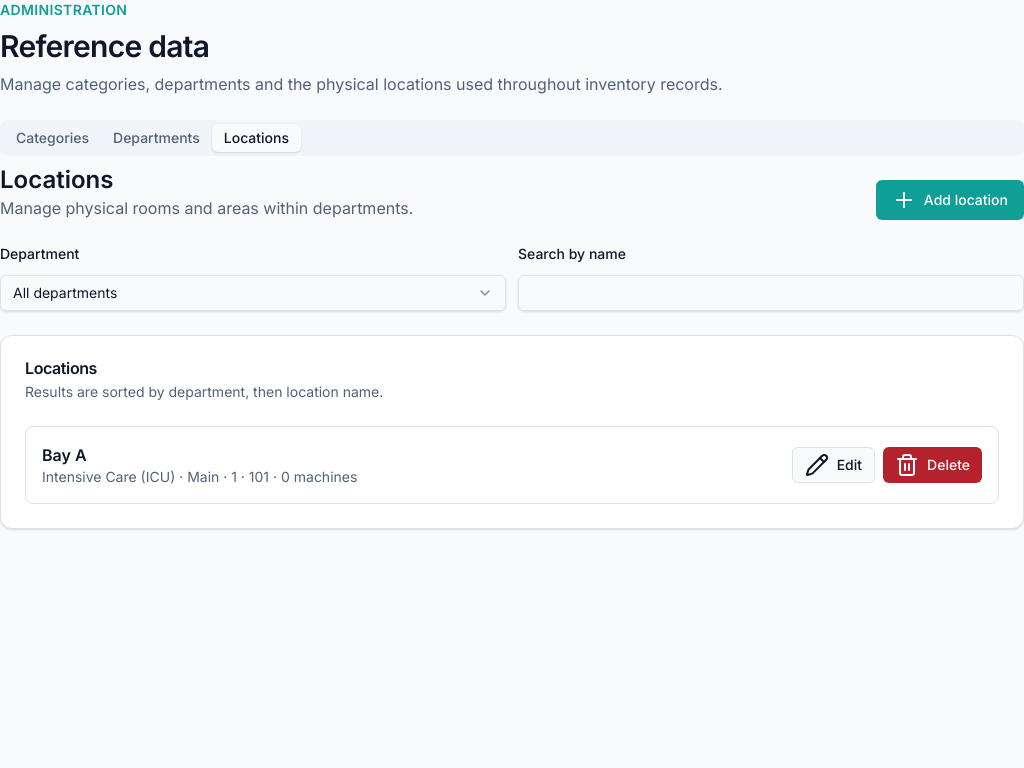
it: ReferenceManagement › filters locations, keeps department immutable on edit and names destructive actions
Expected: the heading "Bay A" is shown, [42,445,87,465]
Click the button with aria-label "Edit Bay A". click: (833, 465)
box: [792,447,875,483]
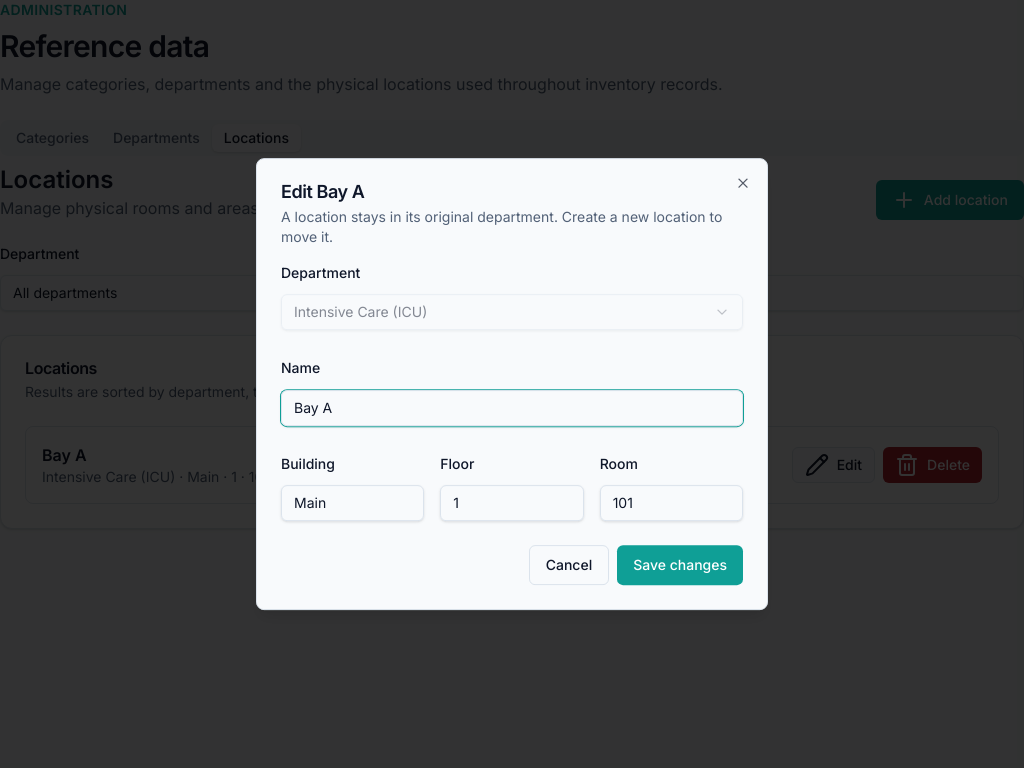
Now the dropdown named "Department" is disabled, box [281,294,743,330]
Click the button "Cancel". click: (569, 565)
box: [529,545,609,585]
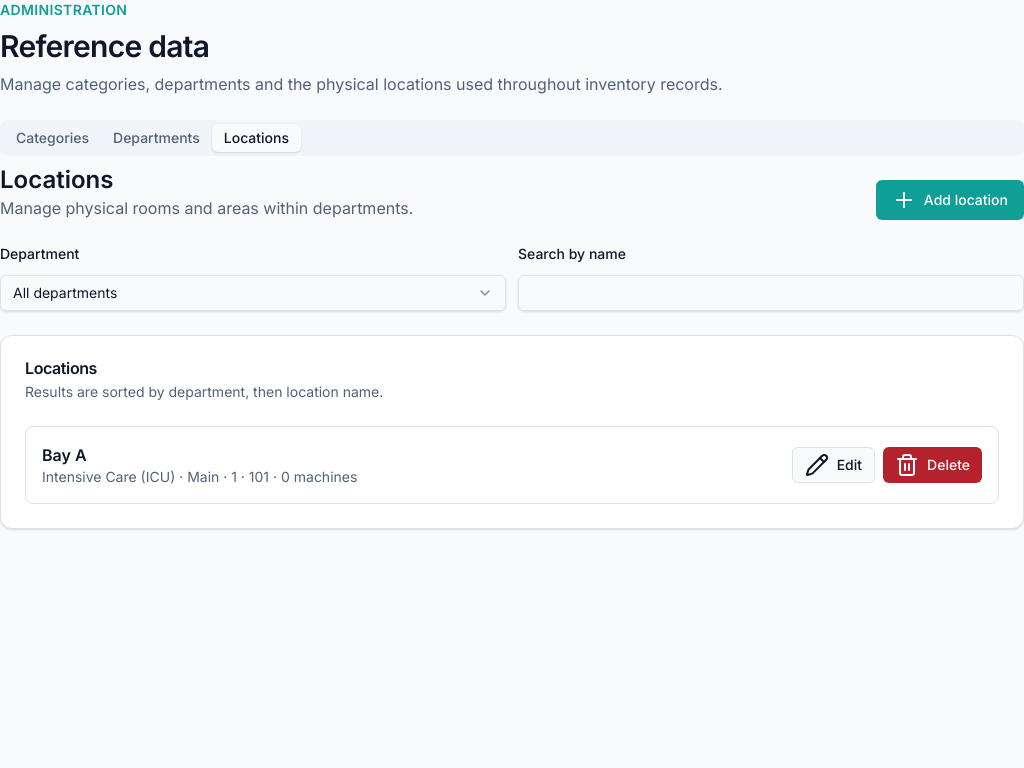
Click the button with aria-label "Delete Bay A". click: (933, 465)
box: [883,447,982,483]
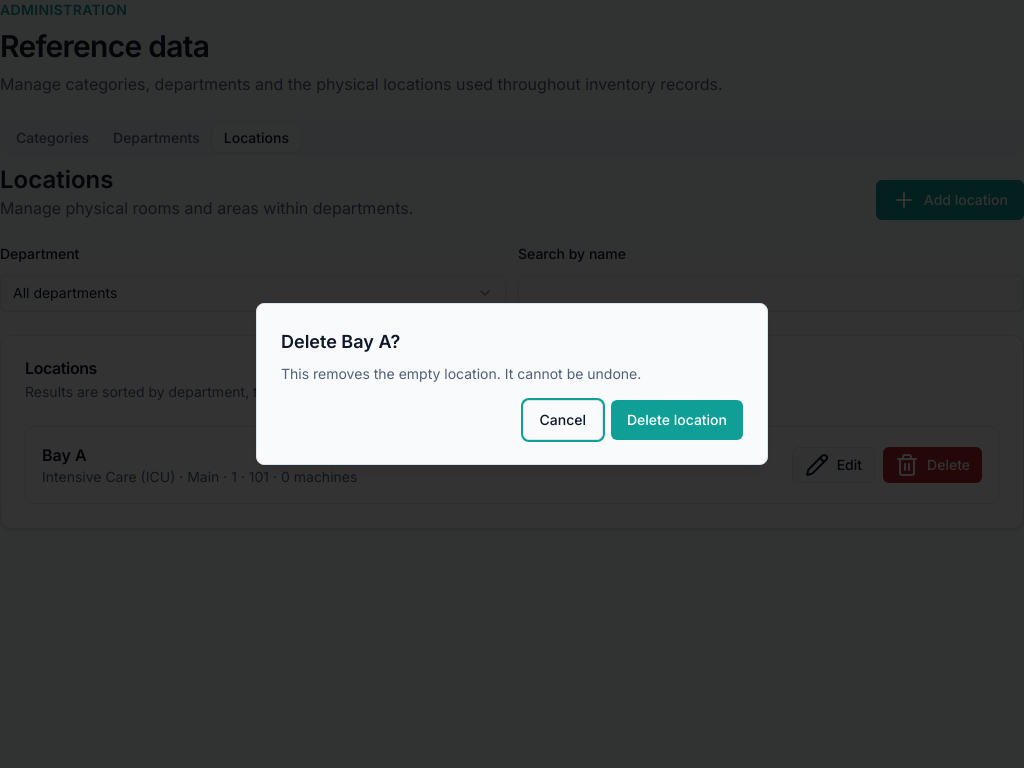
Now the heading "Delete Bay A?" is shown, box [281,331,400,352]
